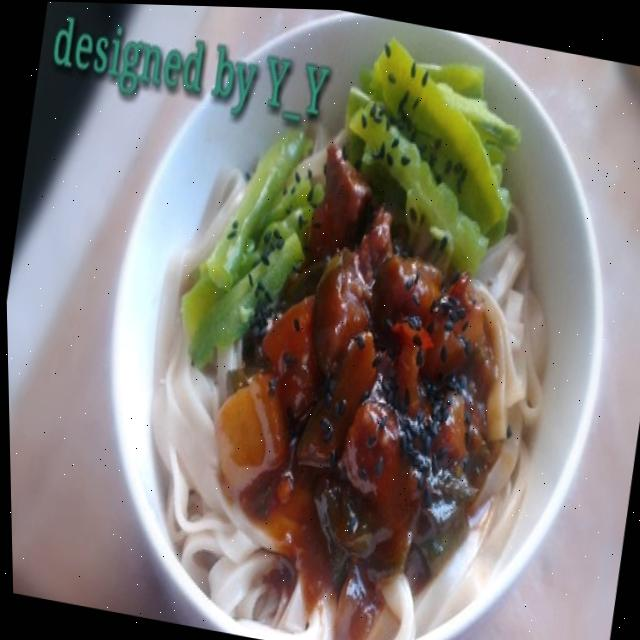面条主食: (52, 1, 640, 640)
